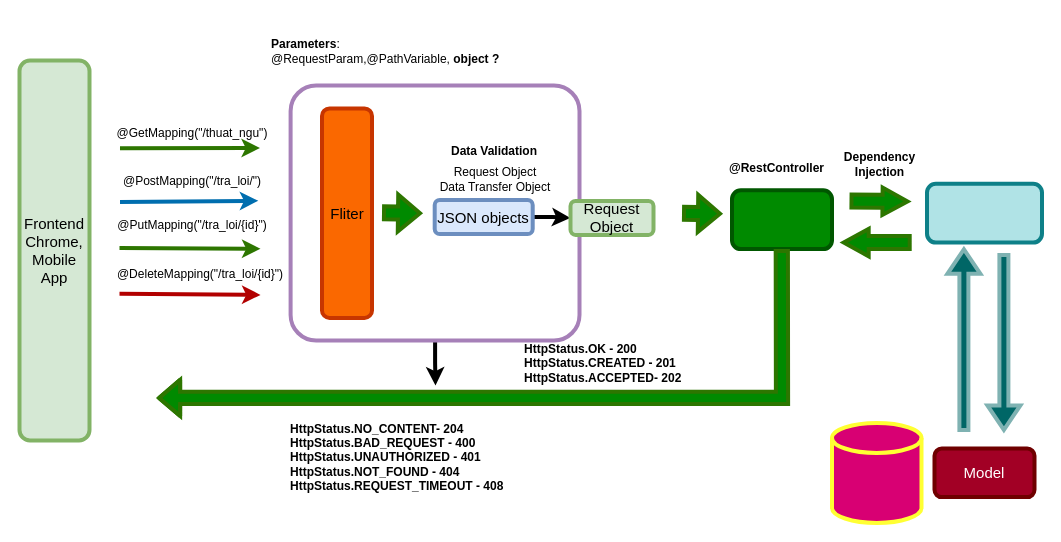
This 1061x542 diagram has some shape labels left out. Here are the shapes that lost their labels. From the top down, the centre of each, then its label:
At point (782, 219): "Controller".
At point (984, 212): "Data Access Object".
At point (876, 472): "MySQL".
